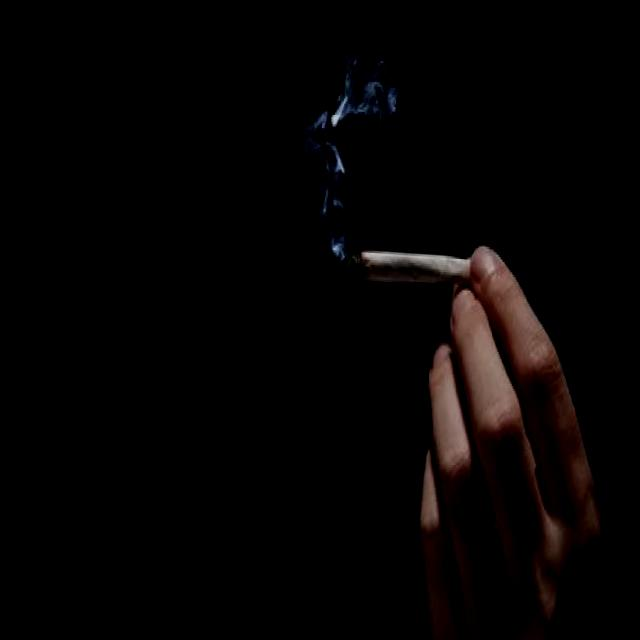cigarette: (342, 230, 484, 328)
